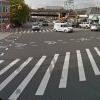Crosswalk: (6, 52, 99, 100)
